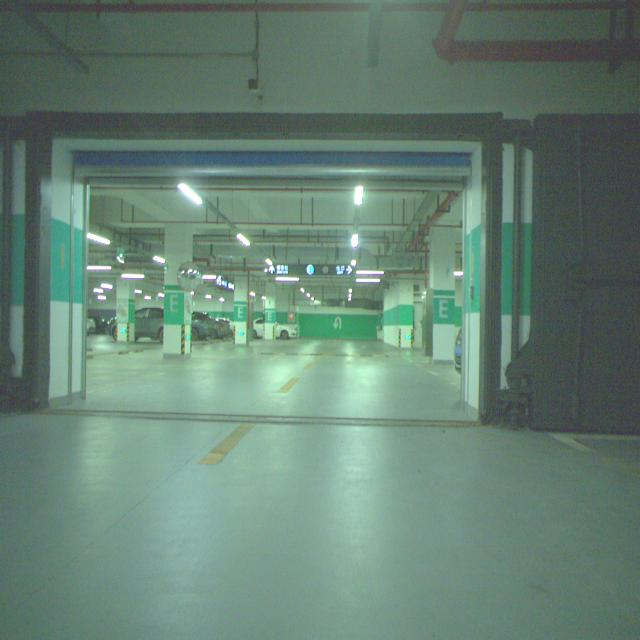pillar: (164, 225, 192, 357)
